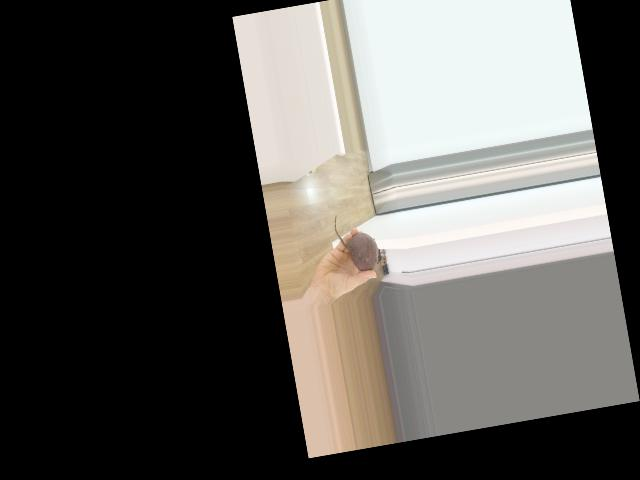beet: (332, 208, 383, 274)
